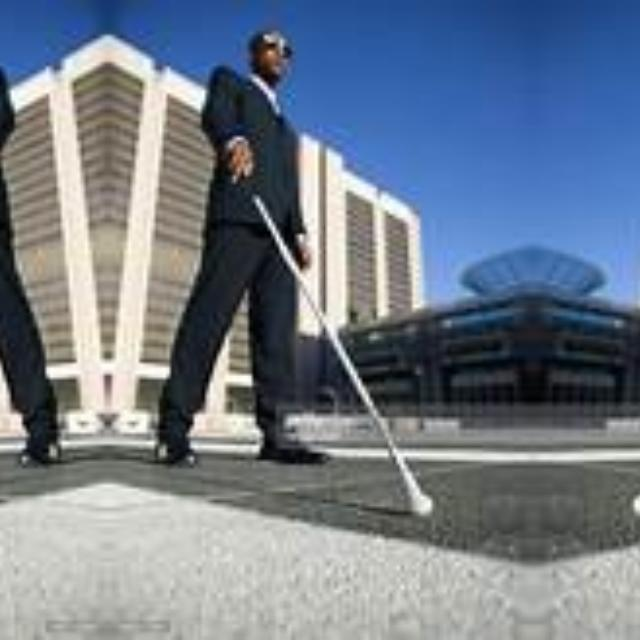person: (154, 19, 368, 484), (0, 19, 59, 484)
